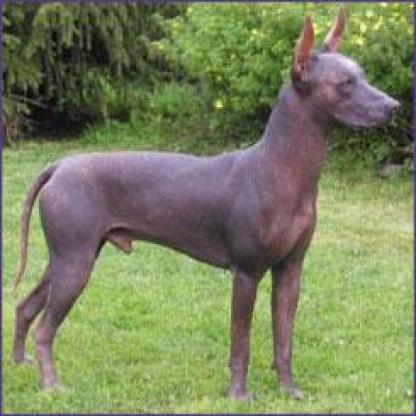Mexican_hairless: (10, 4, 394, 398)
